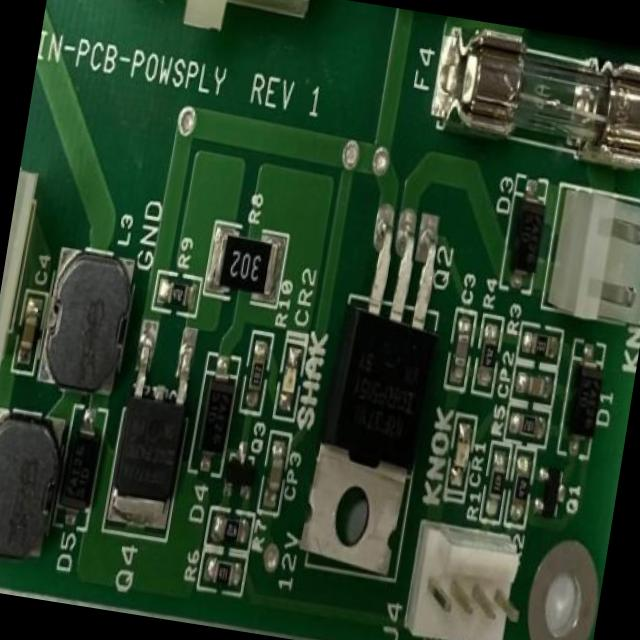IC: (304, 216, 451, 572), (108, 332, 200, 530)
LED: (278, 340, 304, 410), (449, 424, 476, 488)
capacitor: (11, 294, 43, 362), (449, 320, 473, 382), (264, 442, 290, 498), (519, 369, 550, 405)
connector: (395, 509, 537, 640), (540, 187, 640, 329)
diode: (55, 400, 108, 532), (558, 346, 610, 462), (500, 178, 554, 289), (198, 358, 240, 459)
resistor: (212, 226, 290, 302), (508, 457, 536, 522), (486, 444, 512, 504), (477, 324, 501, 386), (246, 336, 269, 397), (511, 408, 548, 442), (214, 514, 250, 548), (523, 328, 559, 362), (209, 553, 241, 588), (162, 278, 195, 309)
transistor: (220, 440, 258, 498), (534, 462, 570, 522)
